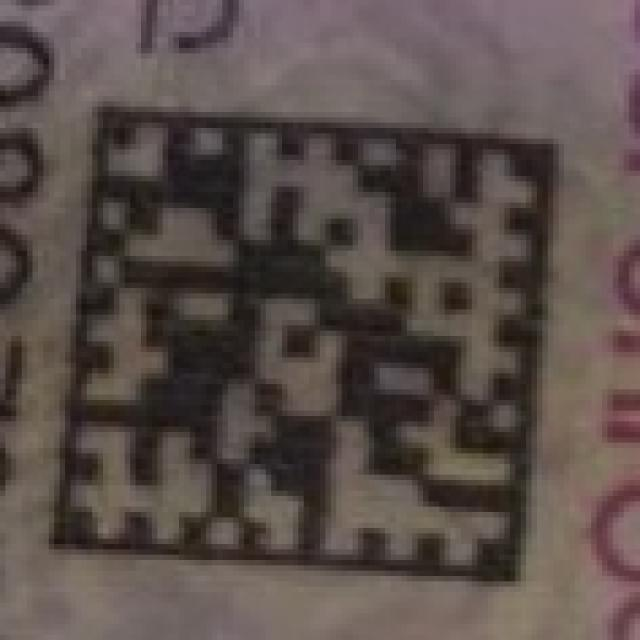QR_CODE: (50, 102, 560, 585)
